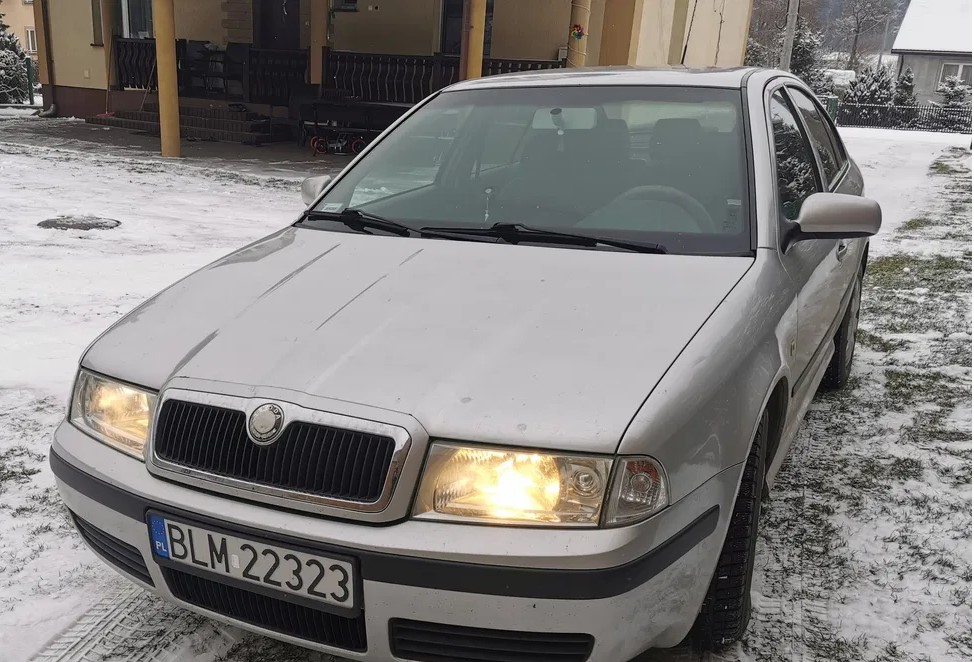number_plate: (125, 504, 377, 618)
